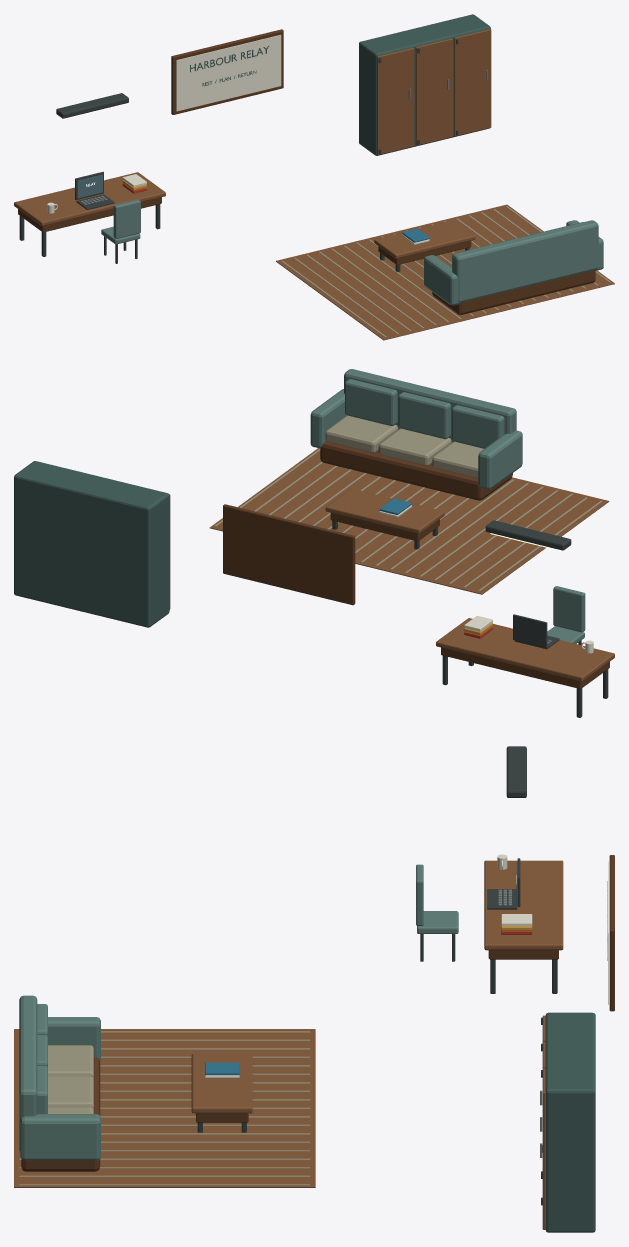
File: interior_safe_furnishings.glb
The picture shows the model from 3 angles, top to bottom: view 1: azimuth 30°, elevation 25°; view 2: azimuth 150°, elevation 25°; view 3: azimuth 270°, elevation 25°; orthographic projection. The views are drawn at different scales.
Visible parts, largest first — view 1: interior_safe_furnishings; view 2: interior_safe_furnishings; view 3: interior_safe_furnishings.
Part boxes in pixels (x1,y1,x2,y2): interior_safe_furnishings: (14,14,614,340); interior_safe_furnishings: (14,369,614,717); interior_safe_furnishings: (14,746,614,1232).
Size of the model in its own units: 10.6 by 2.86 by 8.37.
